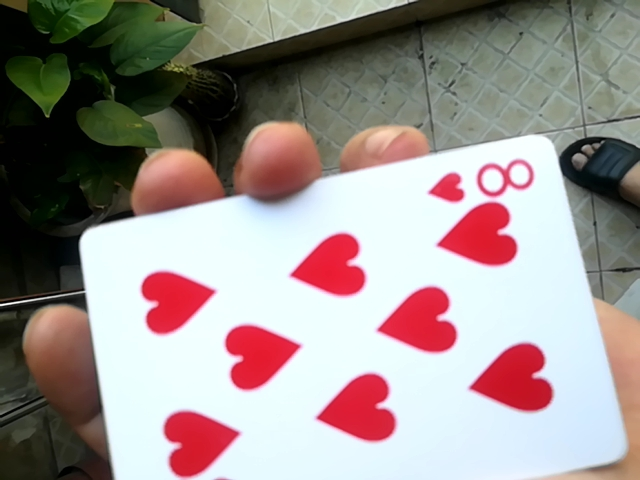hx 8: (75, 140, 622, 477)
